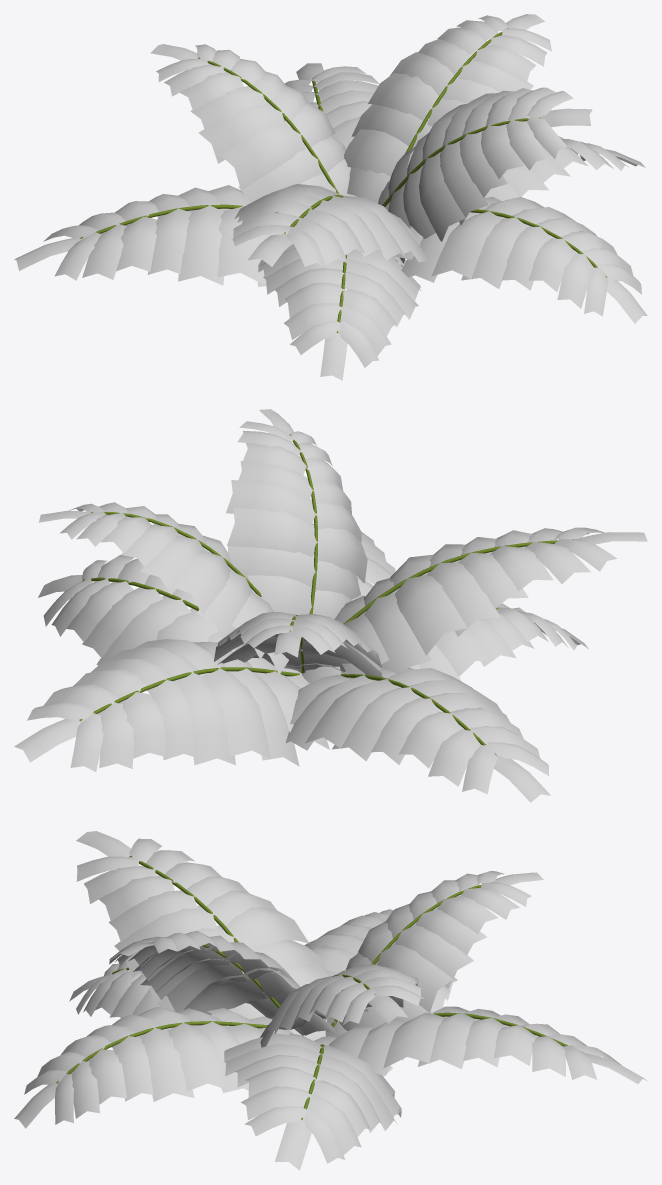
File: carton_fern.fbx
3 renders of one model, top to bottom at view 1: azimuth 30°, elevation 25°; view 2: azimuth 150°, elevation 25°; view 3: azimuth 270°, elevation 25°, orthographic. The views are drawn at different scales.
Parts seen in each view (by area): view 1: cartoon_fern; view 2: cartoon_fern; view 3: cartoon_fern.
Boxes of the visible parts, left/top/right/bottom form: cartoon_fern: left=14, top=14, right=647, bottom=380; cartoon_fern: left=14, top=409, right=647, bottom=802; cartoon_fern: left=14, top=831, right=646, bottom=1170.
Size of the model in its own units: 506 by 178 by 497.
2 materials, 1 textured.
